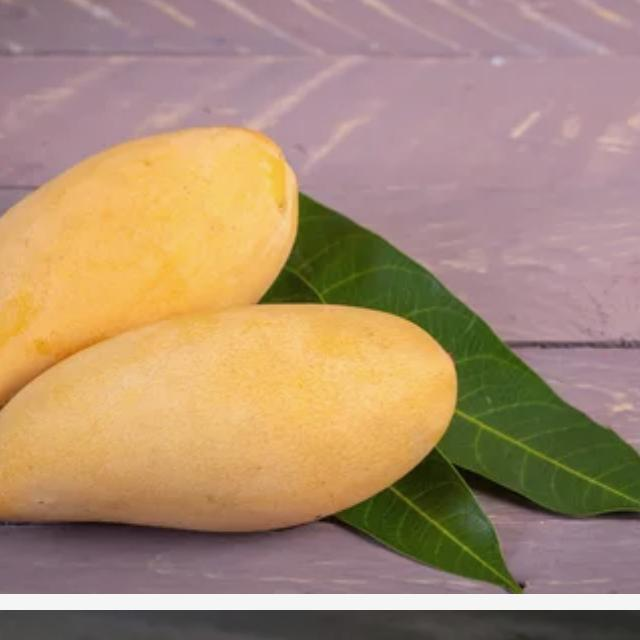mango: (0, 304, 460, 532), (0, 121, 298, 435)
